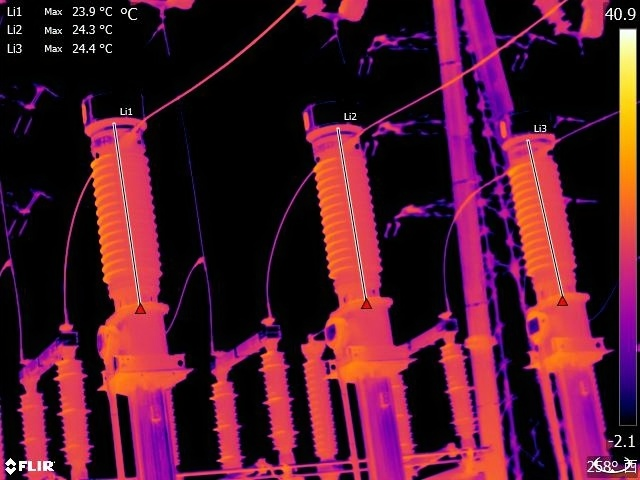clamp: (191, 247, 213, 273)
current transformer: (76, 85, 193, 393), (299, 94, 403, 371), (499, 101, 602, 361)
insulator: (574, 1, 629, 43), (533, 1, 573, 36)
post insulator: (254, 348, 299, 454), (58, 359, 94, 470), (438, 341, 478, 440), (11, 387, 53, 473), (209, 377, 245, 470), (387, 374, 413, 451)
potential transformer: (297, 335, 343, 468)
switch: (204, 318, 279, 382), (15, 320, 80, 392), (397, 305, 457, 368)
